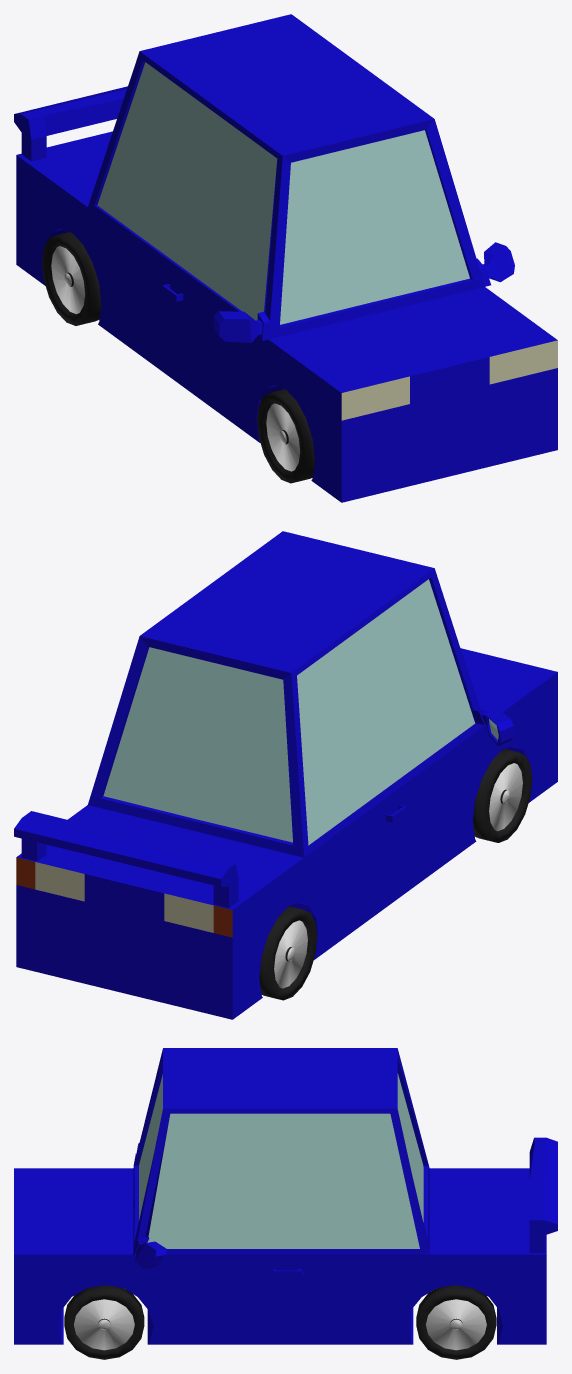
File: Carro01.fbx
3 renders of one model, top to bottom at view 1: azimuth 30°, elevation 25°; view 2: azimuth 150°, elevation 25°; view 3: azimuth 270°, elevation 25°, orthographic. The views are drawn at different scales.
Visible parts, largest first — view 1: Cube; view 2: Cube; view 3: Cube.
Part boxes in pixels (x1,y1,x2,y2): Cube: [14, 14, 557, 502]; Cube: [14, 531, 557, 1019]; Cube: [14, 1048, 557, 1359].
Size of the model in its own units: 4.93 by 4.62 by 9.63.
